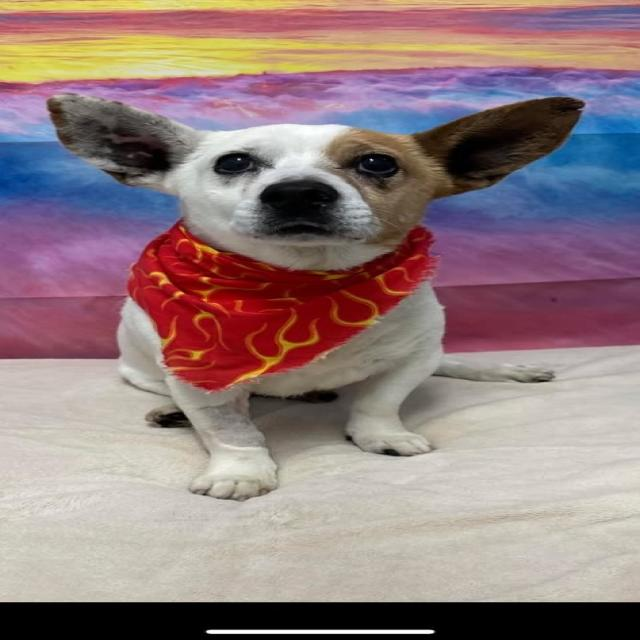corgi_dog: (35, 81, 598, 264)
